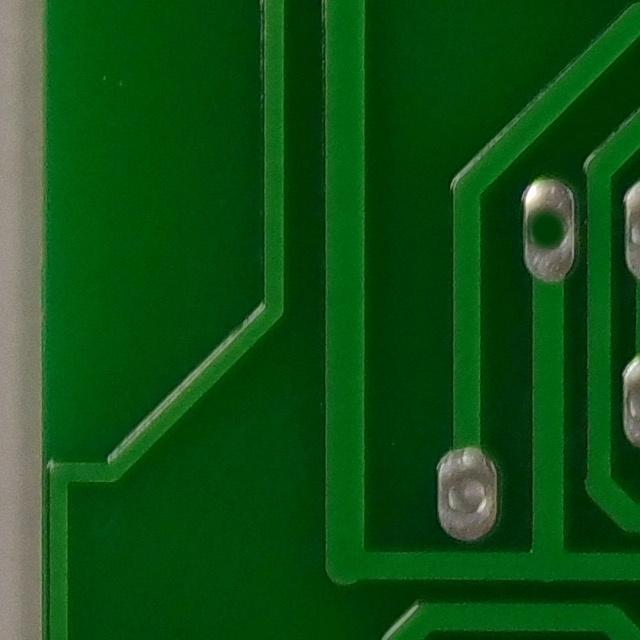missing_hole: (512, 185, 586, 277)
